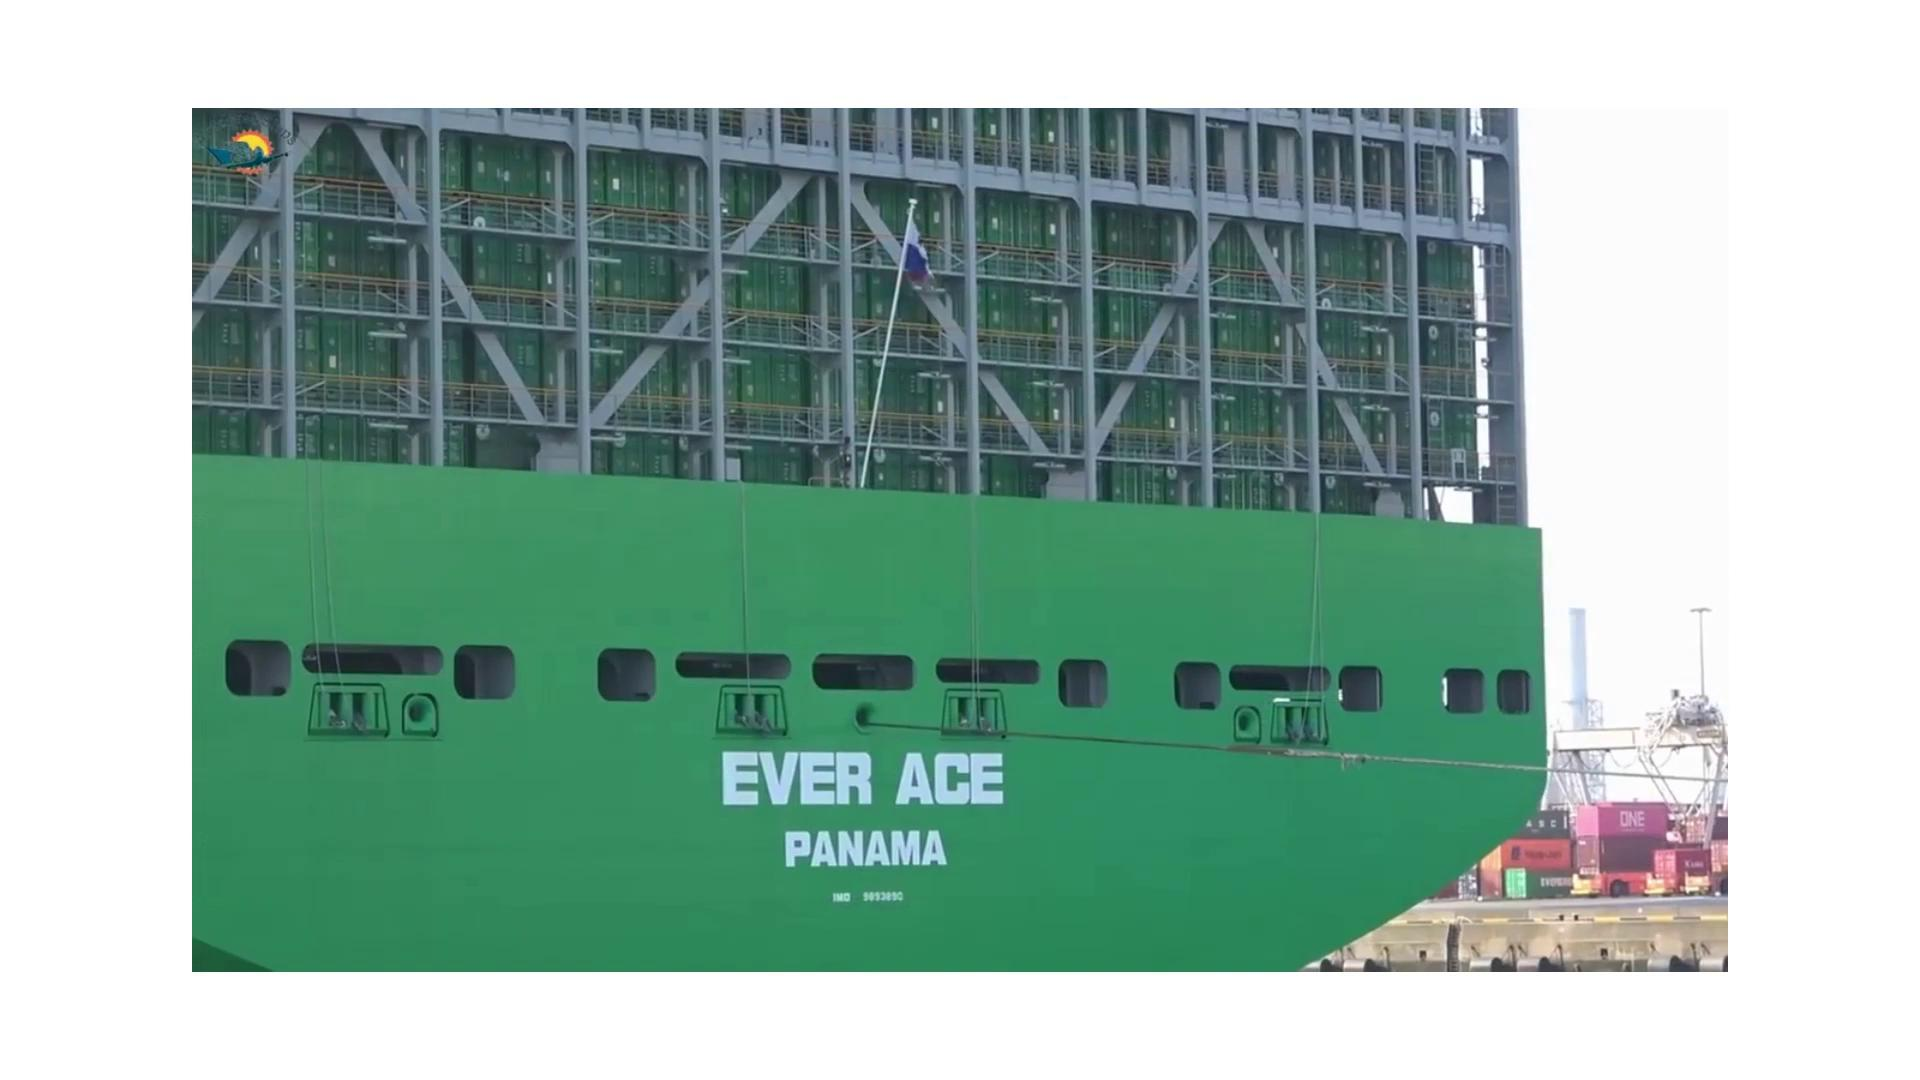OCR: (702, 713, 1027, 895)
